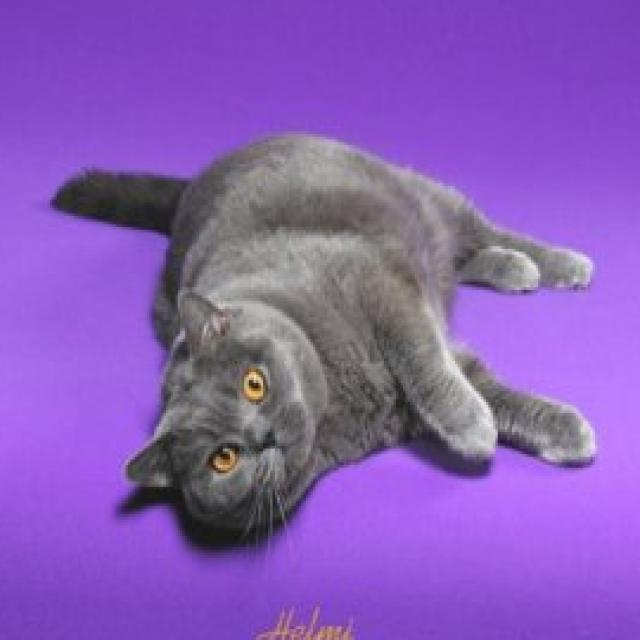British Shorthair: (48, 123, 601, 538)
